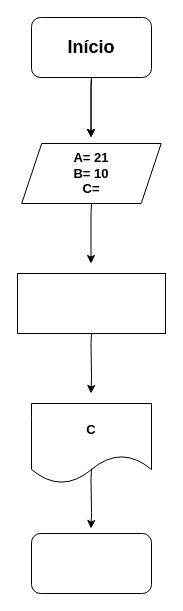
Some shapes in this 183 by 611 pixel diagram are drawn without their labels. The centre of each missing label's shape, as x and y in pixels:
"C = A + B" belongs at (91,303).
"FIM" belongs at (91,563).
